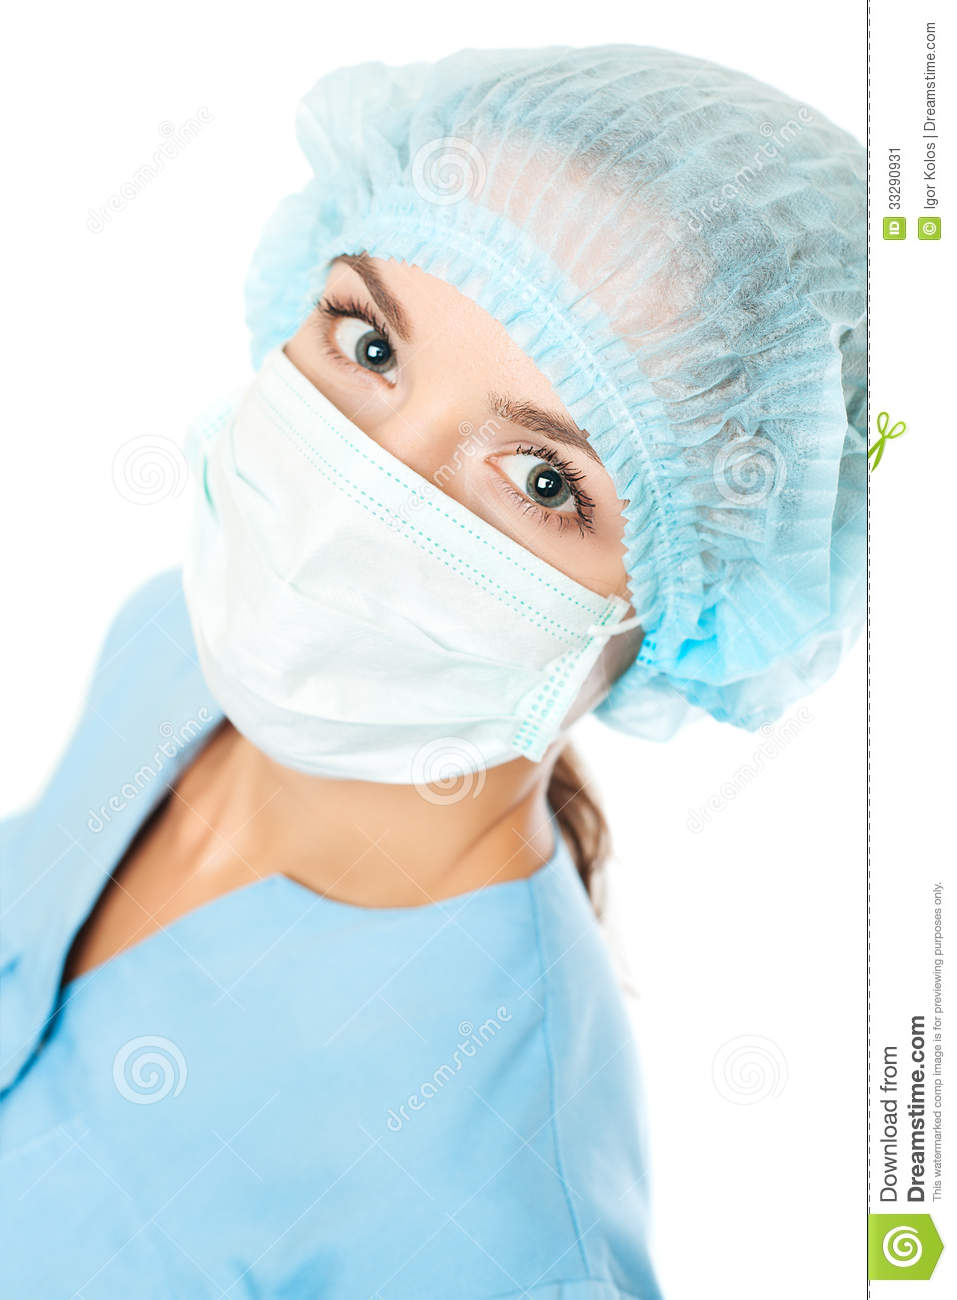mask: (168, 385, 610, 795)
